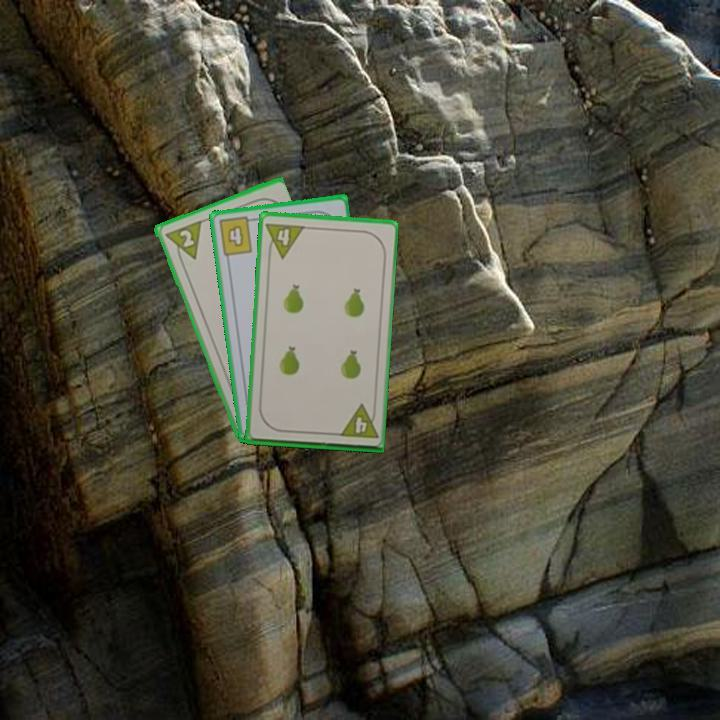2p: (161, 217, 204, 267)
4b: (215, 213, 259, 259)
4p: (262, 219, 307, 261), (335, 401, 380, 441)
